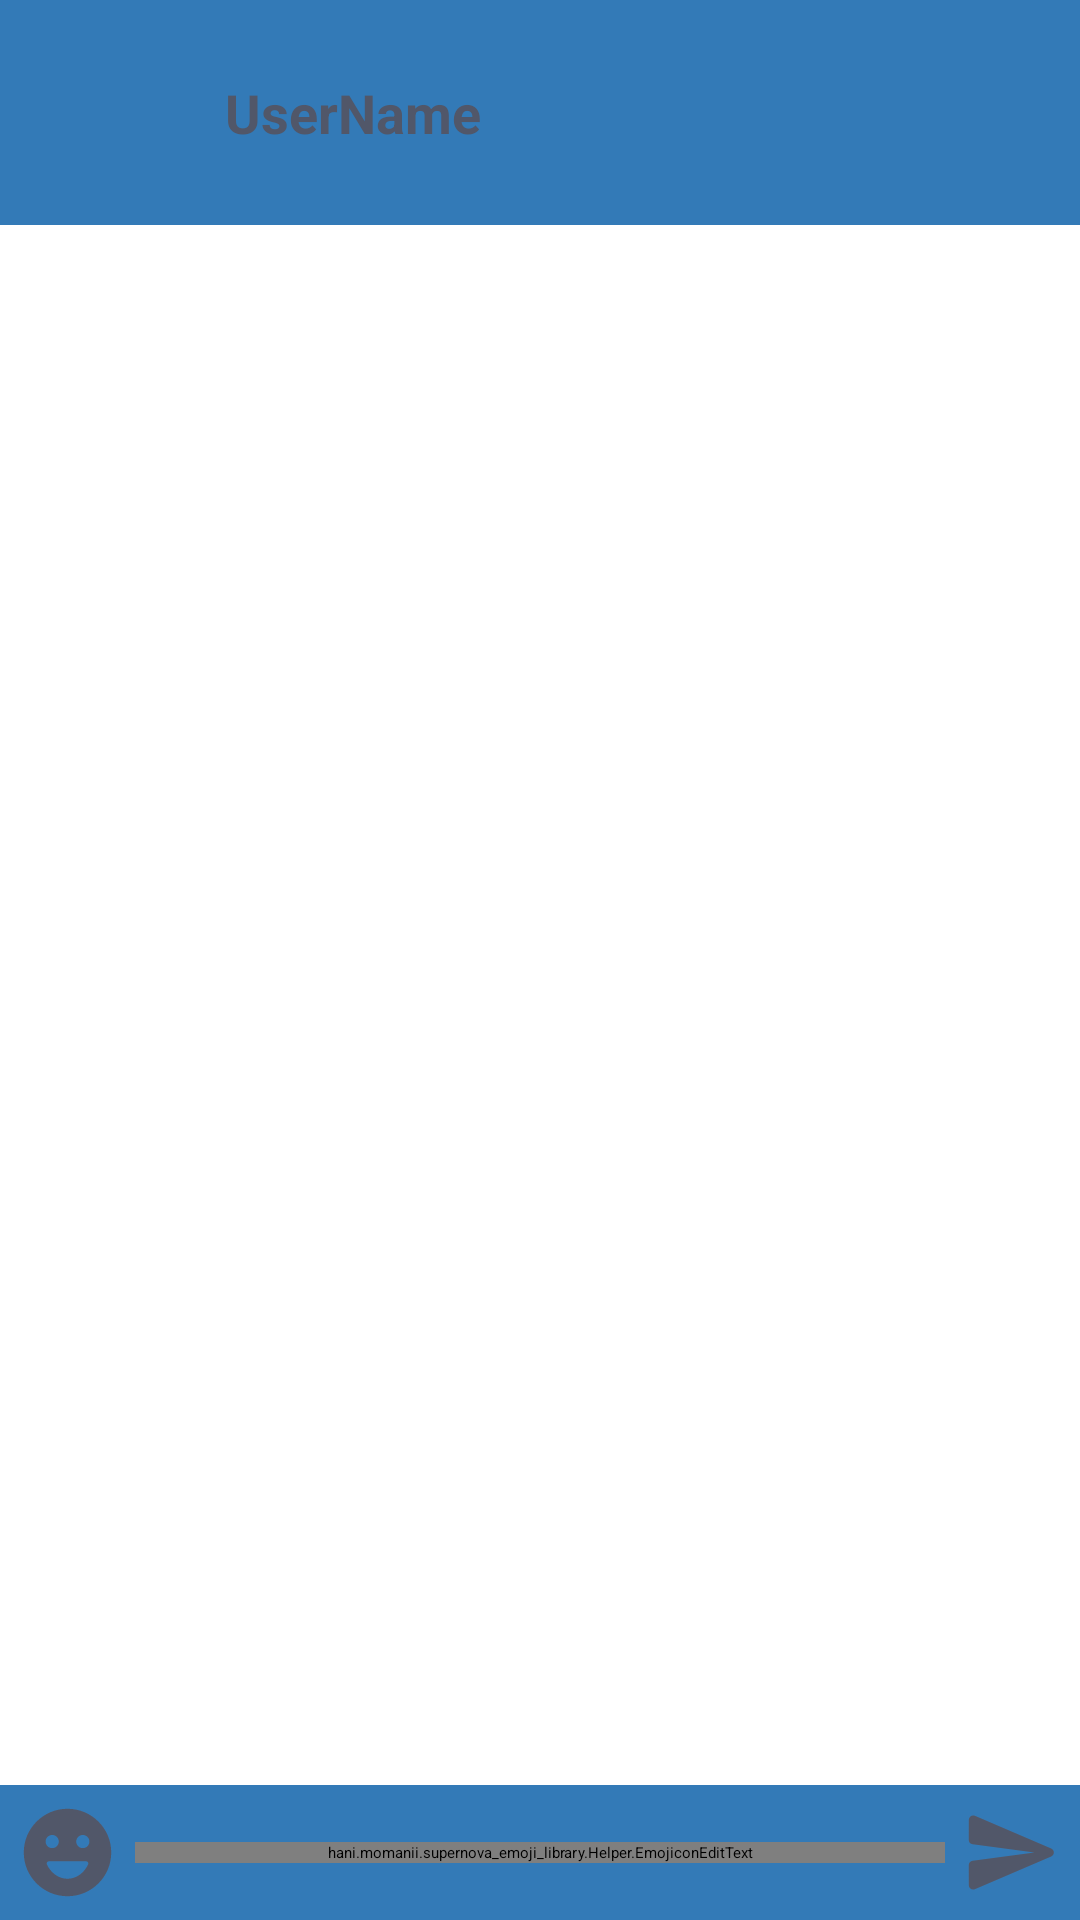

Icons on this 1080px x 1920px Android screen, each with its box as (x1, y1, x2, y2):
send: (969, 1815, 1054, 1890)
